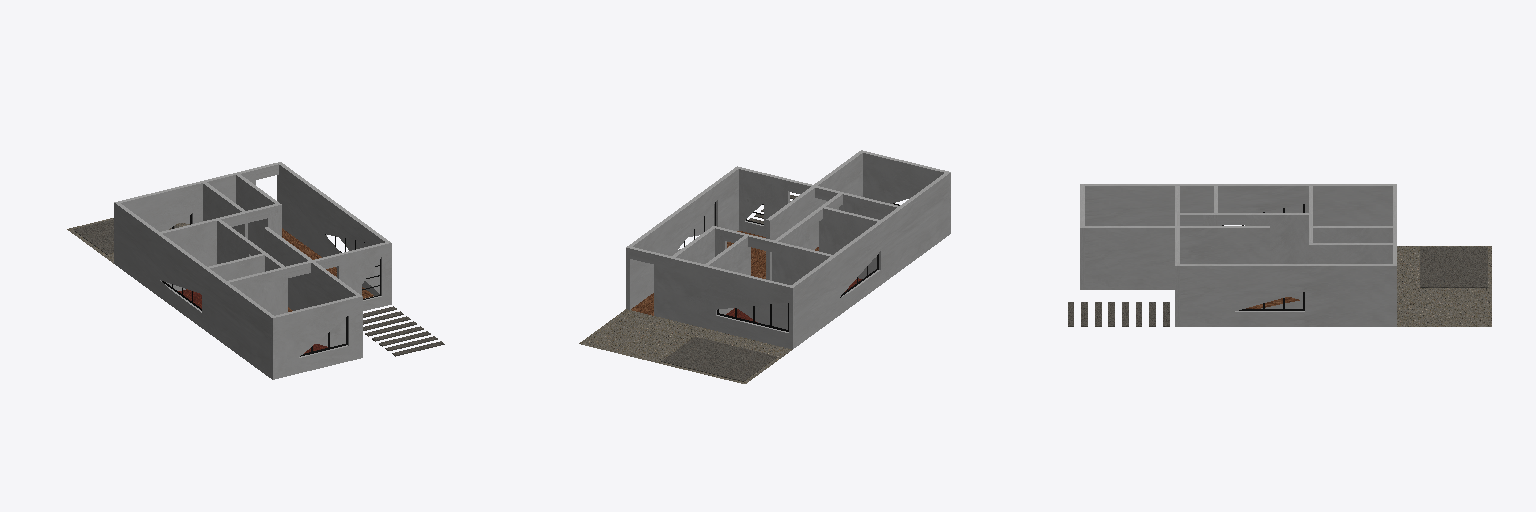
The picture shows the model from 3 angles: view 1: azimuth 30°, elevation 25°; view 2: azimuth 150°, elevation 25°; view 3: azimuth 270°, elevation 25°; orthographic projection.
Parts seen in each view (by area): view 1: paredes_Cube.021, Cube.001_Cube.005, Cube_Cube.003; view 2: paredes_Cube.021, Plane.005, Cube_Cube.003; view 3: paredes_Cube.021, Plane.005, Cube_Cube.003, Cube.001_Cube.005.
Part boxes in pixels (left/top/right/bottom): paredes_Cube.021: left=114, top=162, right=391, bottom=379; Cube.001_Cube.005: left=363, top=306, right=444, bottom=356; Cube_Cube.003: left=73, top=219, right=178, bottom=254; paredes_Cube.021: left=626, top=150, right=950, bottom=349; Plane.005: left=579, top=309, right=791, bottom=383; Cube_Cube.003: left=661, top=337, right=776, bottom=381; paredes_Cube.021: left=1080, top=184, right=1396, bottom=326; Plane.005: left=1397, top=246, right=1491, bottom=326; Cube_Cube.003: left=1420, top=247, right=1487, bottom=287; Cube.001_Cube.005: left=1068, top=302, right=1169, bottom=326.
Bounding box in the file's own units: 8.5 × 3.02 × 18.75.
Materials: 9 (8 with a texture image).